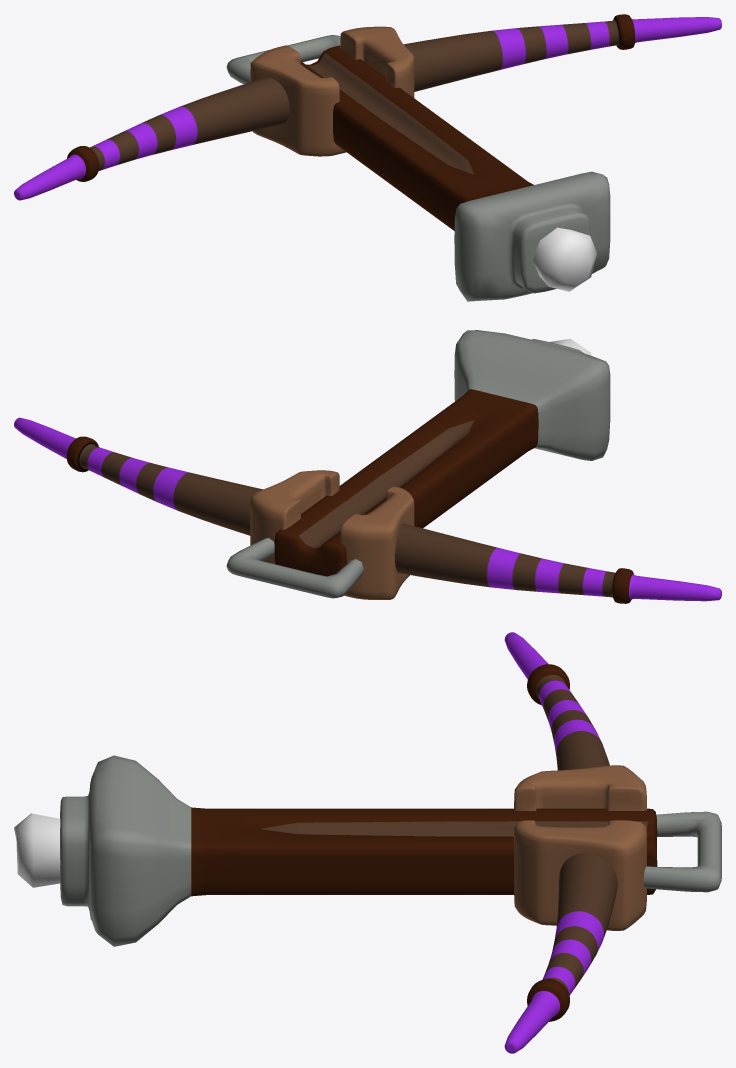
The model's file is Crossbow.glb.
3 renders of one model, top to bottom at view 1: azimuth 30°, elevation 25°; view 2: azimuth 150°, elevation 25°; view 3: azimuth 270°, elevation 25°, orthographic. The views are drawn at different scales.
Parts seen in each view (by area): view 1: Crossbow, Gem; view 2: Crossbow; view 3: Crossbow, Gem.
Boxes of the visible parts, x1=… form: Crossbow: x1=14, y1=14, x2=721, y2=301; Gem: x1=532, y1=227, x2=596, y2=291; Crossbow: x1=14, y1=330, x2=721, y2=603; Crossbow: x1=60, y1=632, x2=721, y2=1053; Gem: x1=14, y1=813, x2=60, y2=887.
Size of the model in its own units: 19.27 by 2.54 by 14.01.
1 material, 1 textured.
